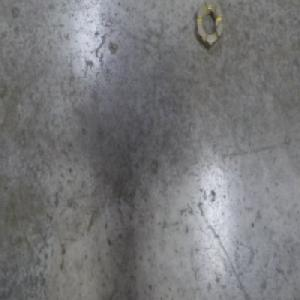Nut: (195, 0, 224, 51)
